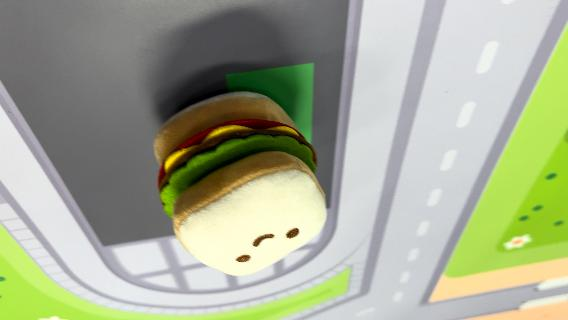sandwich: (151, 88, 331, 276)
